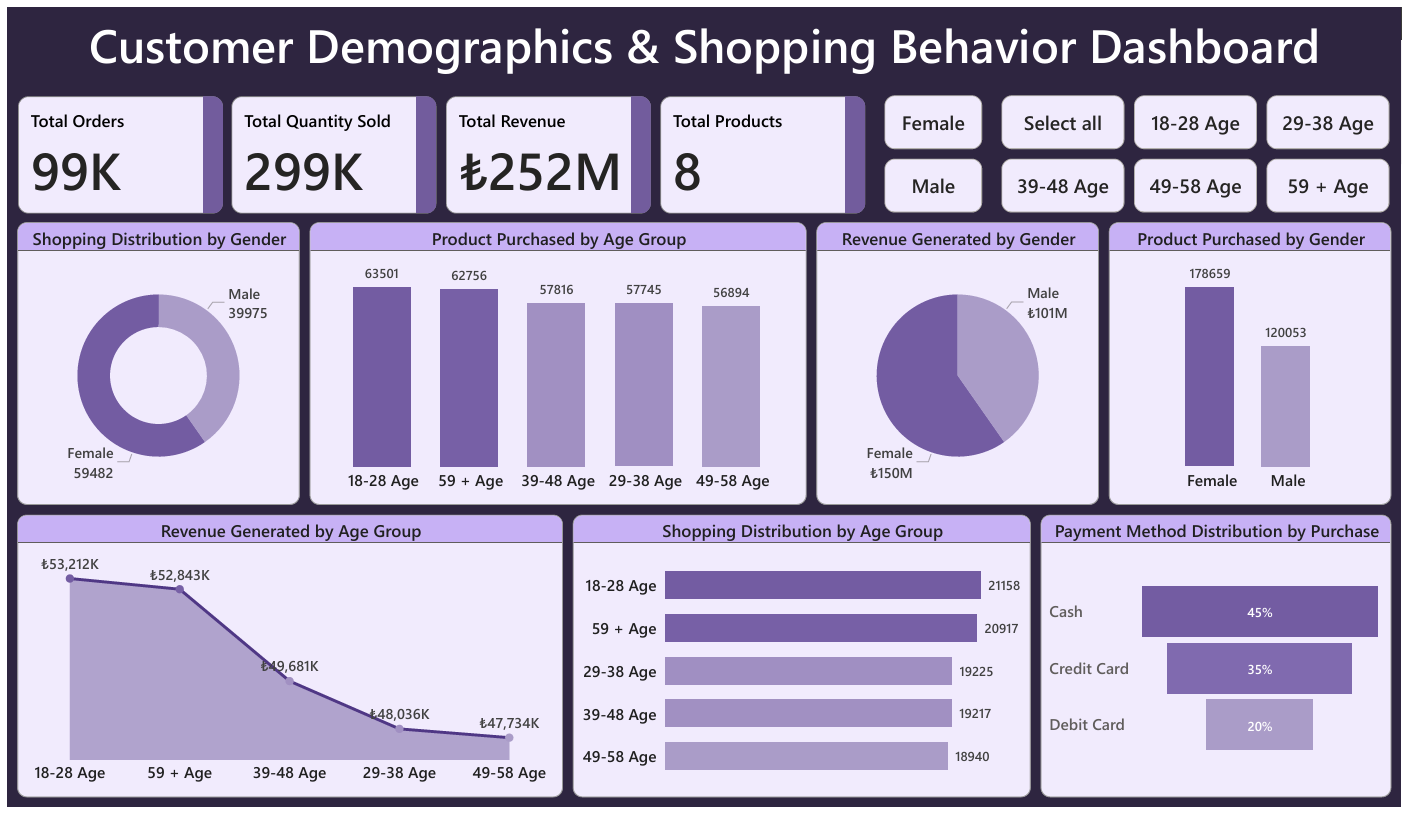

This screenshot's page, from the dashboard's own definition file:
{"tool":"powerbi","page":{"name":"Page 1","canvas":[1430,820],"ordinal":0},"visuals":[{"type":"columnChart","title":"Product Purchased by Gender","fields":{"Category":["customer_data_analysis.gender"],"Y":["customer_data_analysis.Total Quantity"]},"box":[1130,220,290,290],"z":0},{"type":"pieChart","title":"Revenue Generated by Gender","fields":{"Y":["customer_data_analysis.Total Revenue"],"Category":["customer_data_analysis.gender"]},"box":[830,220,290,290],"z":1000},{"type":"donutChart","title":"Shopping Distribution by Gender","fields":{"Category":["customer_data_analysis.gender"],"Y":["customer_data_analysis.Total Sales"]},"box":[10,220,290,290],"z":2000},{"type":"barChart","title":"Shopping Distribution by Age Group","fields":{"Category":["customer_data_analysis.Age Group"],"Y":["customer_data_analysis.Total Sales"]},"box":[580,520,470,290],"z":3000},{"type":"columnChart","title":"Product Purchased by Age Group","fields":{"Category":["customer_data_analysis.Age Group"],"Y":["customer_data_analysis.Total Quantity"]},"box":[310,220,510,290],"z":4000},{"type":"areaChart","title":"Revenue Generated by Age Group","fields":{"Category":["customer_data_analysis.Age Group"],"Y":["customer_data_analysis.Total Revenue"]},"box":[10,520,560,290],"z":5000},{"type":"funnel","title":"Payment Method Distribution by Purchase","fields":{"Category":["customer_data_analysis.payment_method"],"Y":["customer_data_analysis.% of Orders"]},"box":[1060,520,360,290],"z":6000},{"type":"textbox","box":[0,0,1430,75],"z":7000},{"type":"cardVisual","title":"Average Company Rating","fields":{"Data":["customer_data_analysis.Total Purchase"]},"box":[10.8,90.8,210,120],"z":8000},{"type":"cardVisual","title":"Average Company Rating","fields":{"Data":["customer_data_analysis.Total Quantity"]},"box":[230,90.8,210,120],"z":9000},{"type":"cardVisual","title":"Average Company Rating","fields":{"Data":["customer_data_analysis.Total Revenue"]},"box":[450,91.4,210,120],"z":10000},{"type":"advancedSlicerVisual","fields":{"Values":["customer_data_analysis.gender"]},"box":[900,90,100,120],"z":11000},{"type":"advancedSlicerVisual","fields":{"Values":["customer_data_analysis.Age Group"]},"box":[1020,90,400,120],"z":12000},{"type":"cardVisual","title":"Average Company Rating","fields":{"Data":["customer_data_analysis.Total Products"]},"box":[670,91.4,210,120],"z":13000}]}

Visuals, with their boxes in screenshot pixels (x1, y1, x2, y2), scaled from the page's 1430x820 canvas onto the 1408x815 screenshot:
"Product Purchased by Gender" columnChart: x1=1113 y1=219 x2=1398 y2=507
"Revenue Generated by Gender" pieChart: x1=817 y1=219 x2=1103 y2=507
"Shopping Distribution by Gender" donutChart: x1=10 y1=219 x2=295 y2=507
"Shopping Distribution by Age Group" barChart: x1=571 y1=517 x2=1034 y2=805
"Product Purchased by Age Group" columnChart: x1=305 y1=219 x2=807 y2=507
"Revenue Generated by Age Group" areaChart: x1=10 y1=517 x2=561 y2=805
"Payment Method Distribution by Purchase" funnel: x1=1044 y1=517 x2=1398 y2=805
textbox: x1=0 y1=0 x2=1407 y2=75
"Average Company Rating" cardVisual: x1=11 y1=90 x2=217 y2=210
"Average Company Rating" cardVisual: x1=226 y1=90 x2=433 y2=210
"Average Company Rating" cardVisual: x1=443 y1=91 x2=650 y2=210
advancedSlicerVisual - customer_data_analysis.gender: x1=886 y1=89 x2=985 y2=209
advancedSlicerVisual - customer_data_analysis.Age Group: x1=1004 y1=89 x2=1398 y2=209
"Average Company Rating" cardVisual: x1=660 y1=91 x2=866 y2=210
